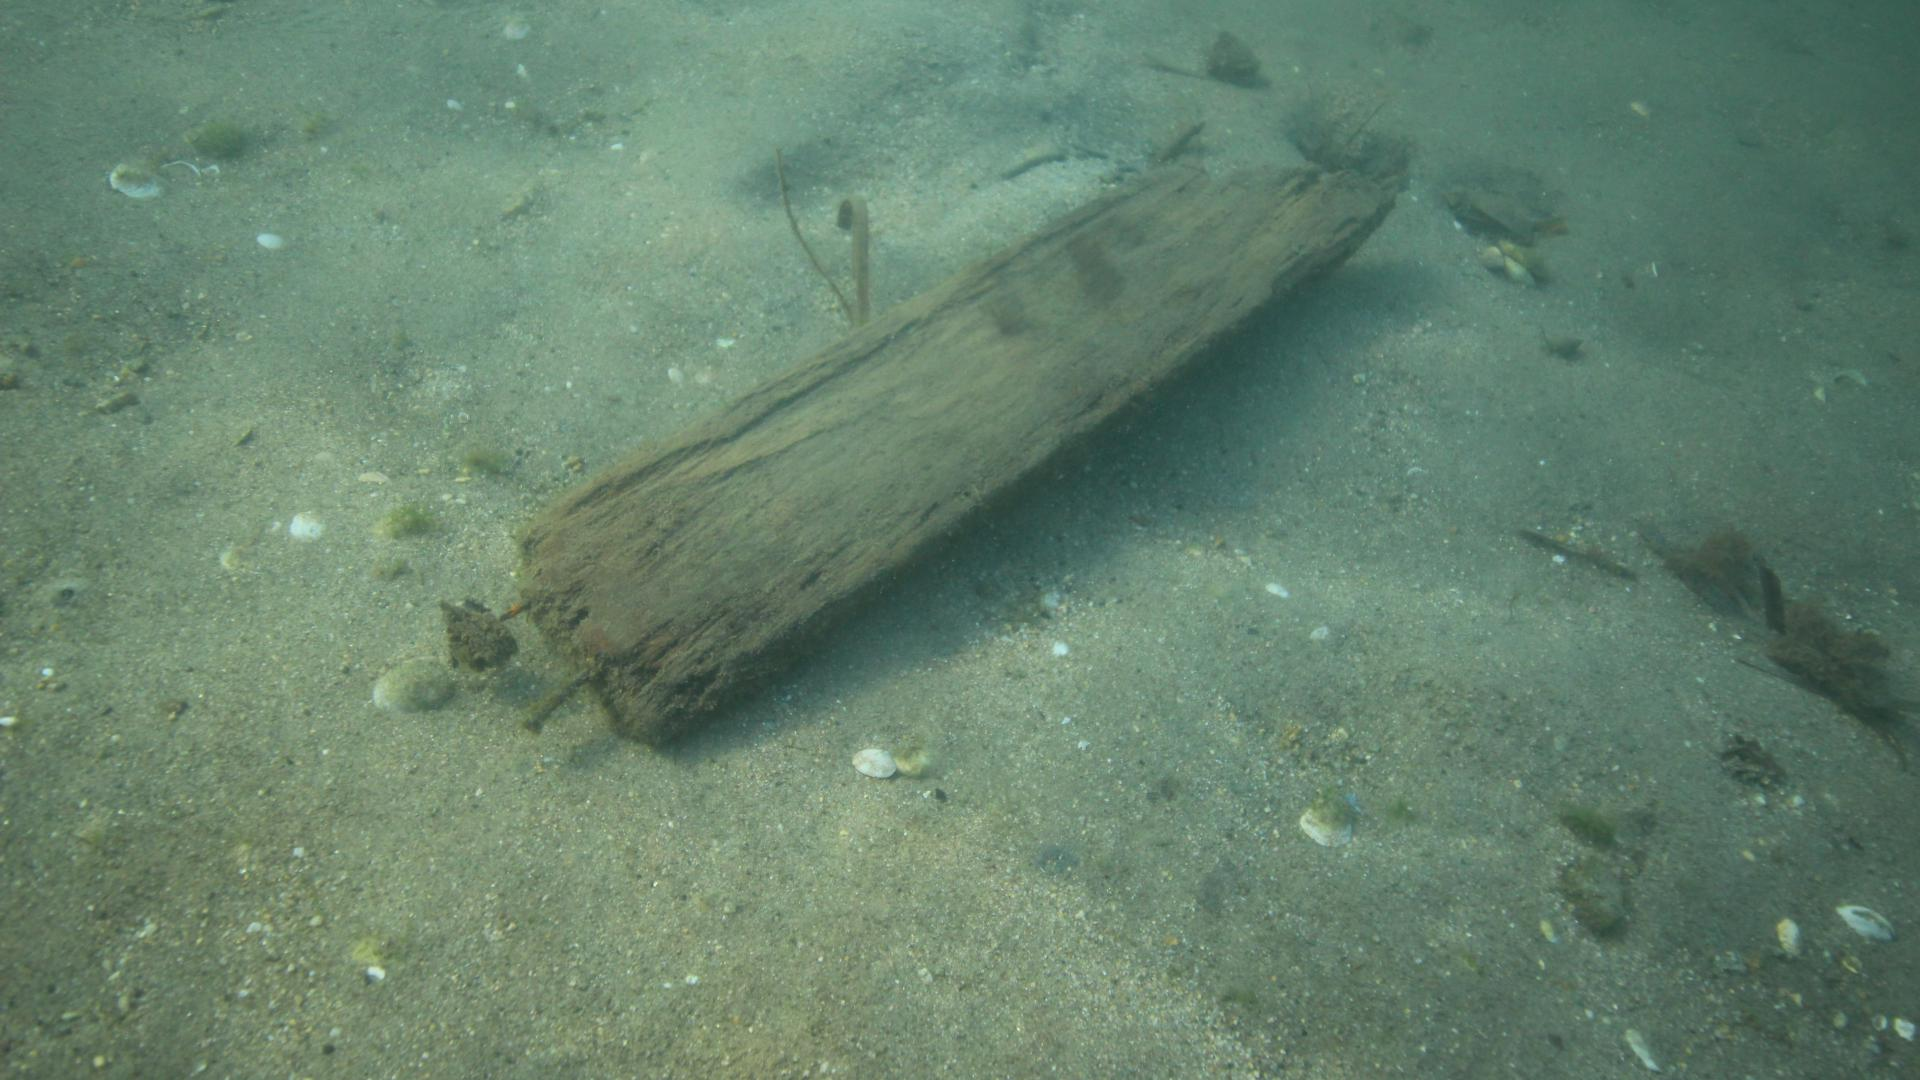wood: (513, 117, 1404, 754)
